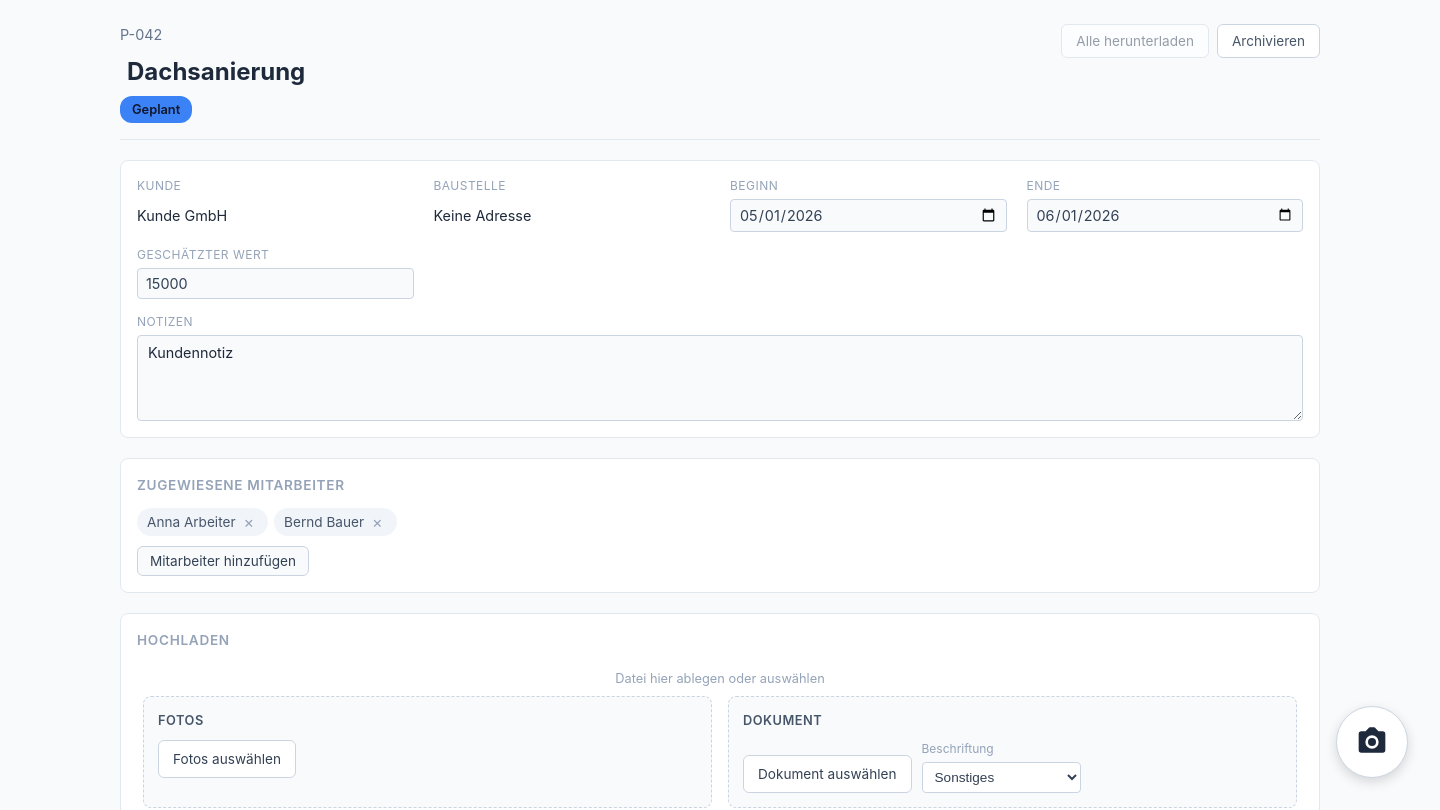
ProjectDetailPage — KUNDE click opens CustomerEditForm modal › opens the modal for an owner (canEditCustomer = true)
What coordinates should you click on to do the following:
click the button with test id "project-detail-customer"
I would click on:
 (159, 185)
Its box is x1=137 y1=178 x2=227 y2=224.
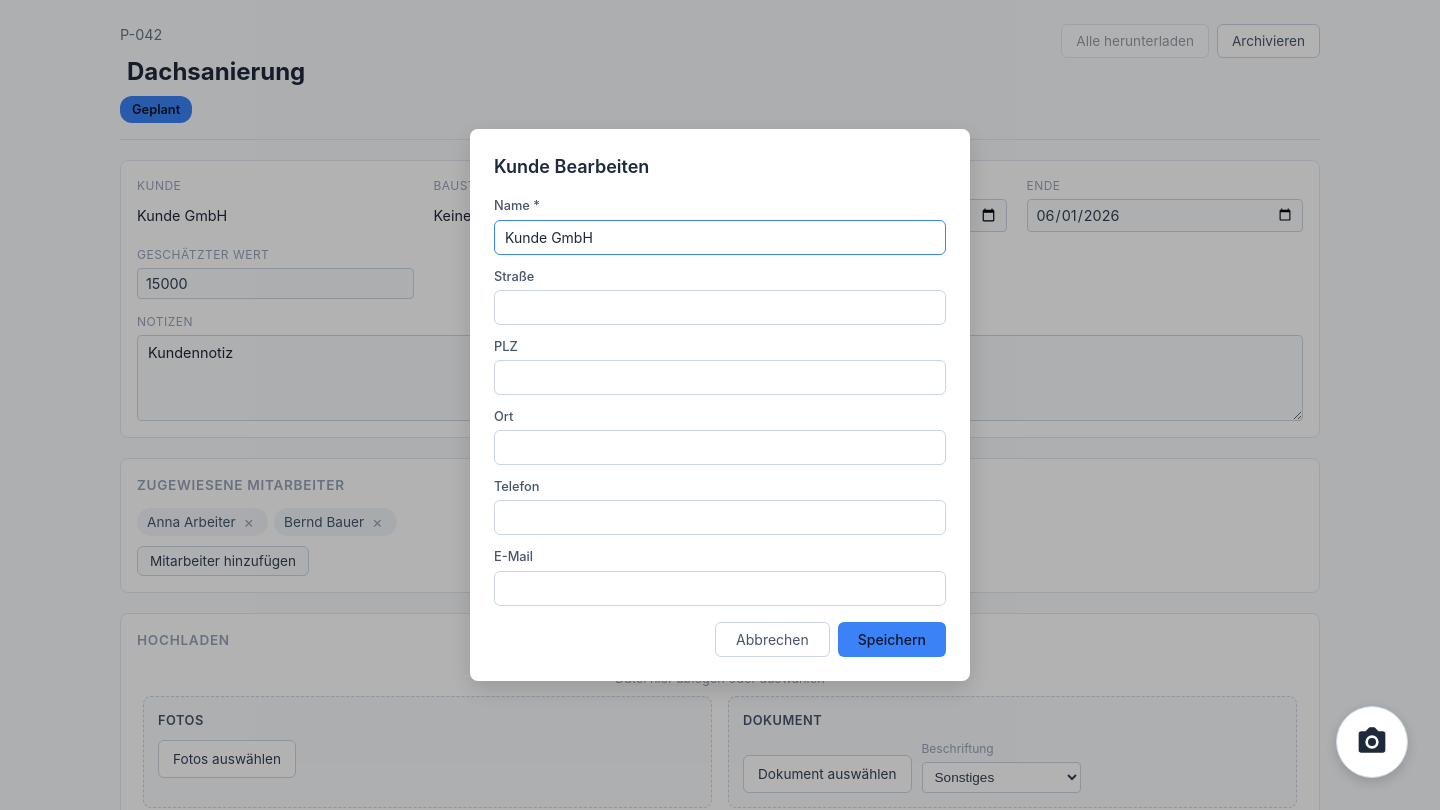
Check: the button with test id "customer-save" is shown, box x1=838 y1=622 x2=946 y2=657
Check: the field with test id "customer-name-input" holds "Kunde GmbH", box x1=494 y1=220 x2=946 y2=255
